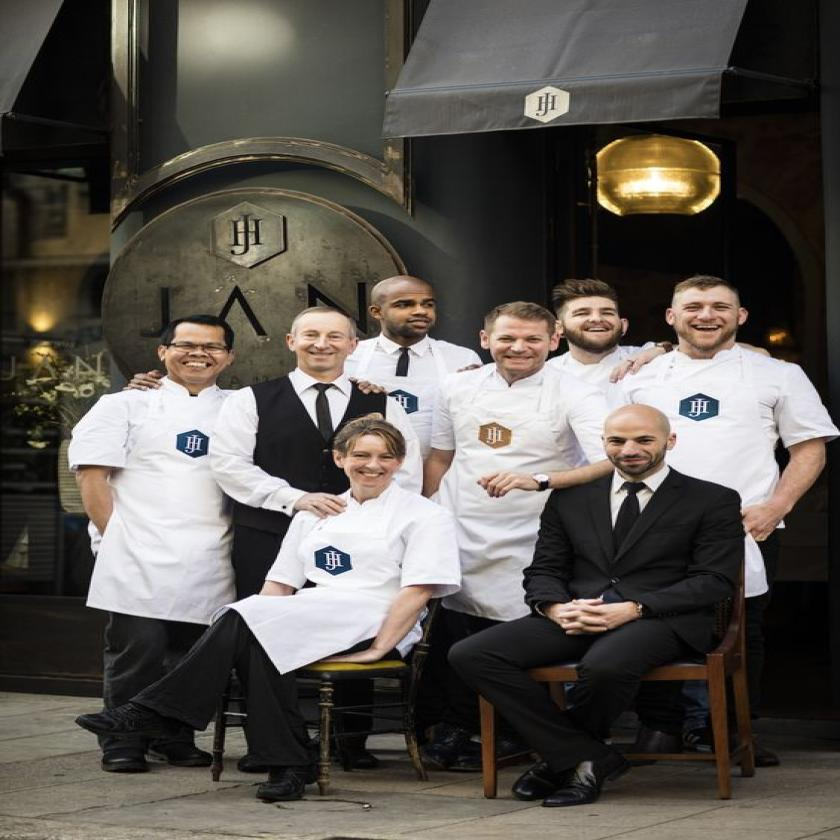Sin_casco: (581, 403, 712, 495), (652, 260, 775, 356), (316, 408, 428, 500), (466, 292, 572, 380), (272, 292, 364, 381), (144, 308, 238, 391), (550, 270, 632, 364), (364, 263, 447, 346)
